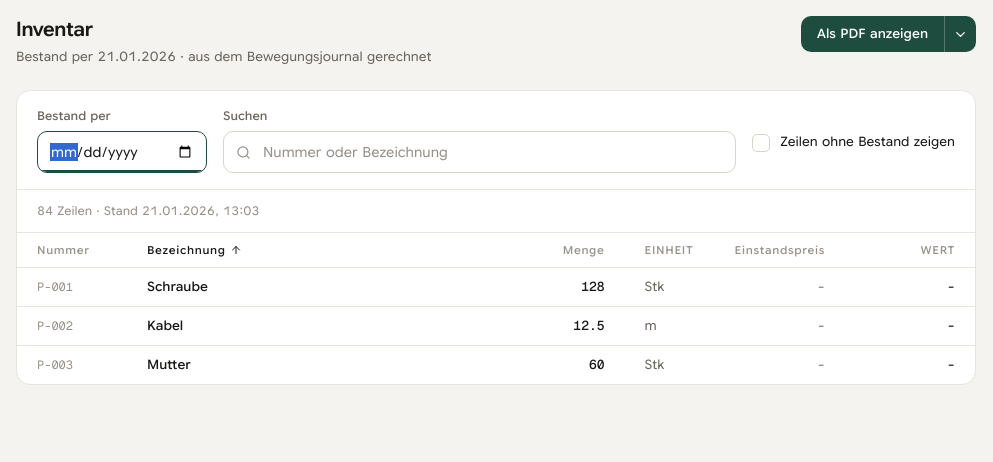
Test: StockAsOfPage › stockAsOfPageWithAnEmptyDateAsksNothingTest
Clear the date field labelled "Bestand per": (122, 152) [38, 132, 206, 172]
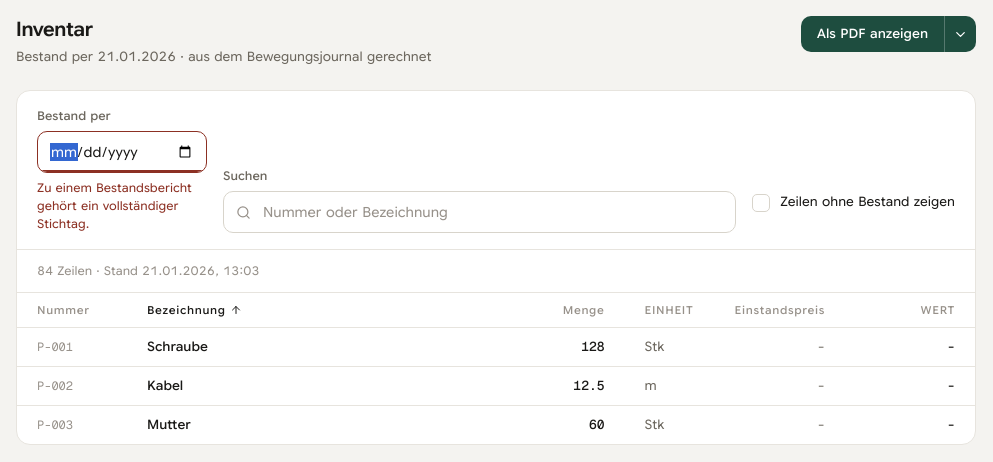
Now the text "Zu einem Bestandsbericht gehört ein vollständiger Stichtag." is shown, box [37, 179, 207, 233]
